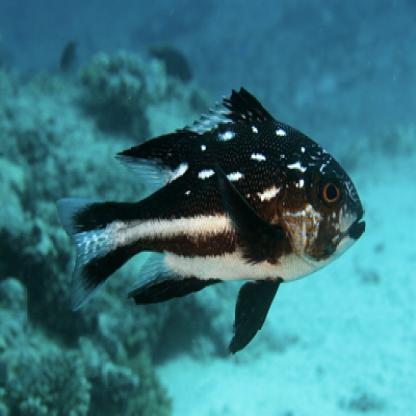snapper: (45, 78, 373, 366)
